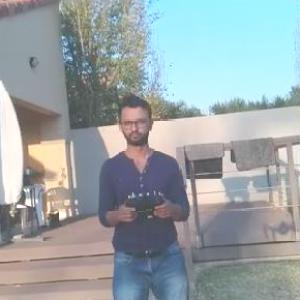follow: (85, 87, 187, 299)
